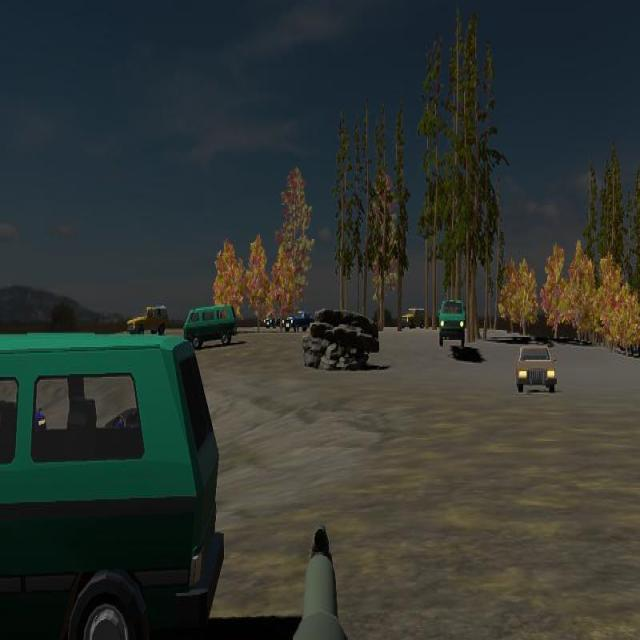car: (0, 335, 224, 639), (183, 304, 235, 349), (516, 342, 557, 395), (127, 304, 169, 338), (438, 298, 468, 344)
